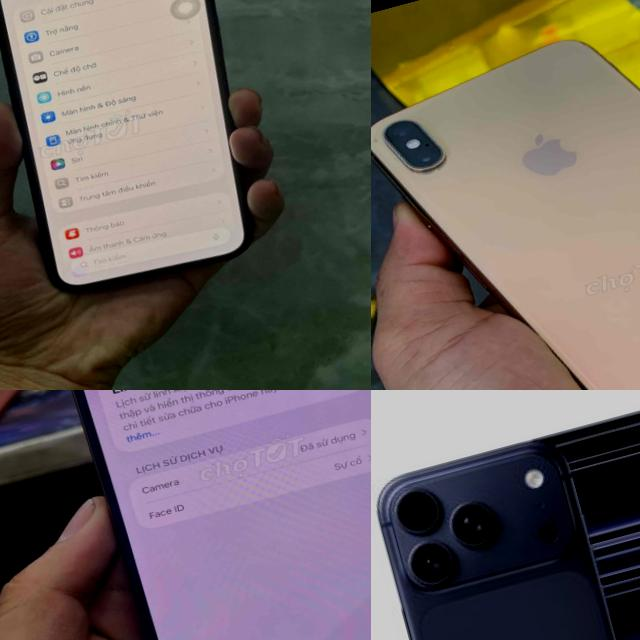scratch: (371, 121, 391, 157)
